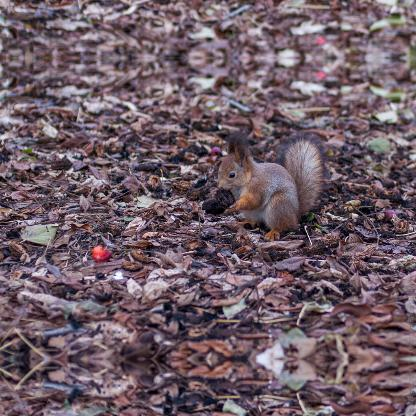Squirrel: (214, 124, 326, 244)
